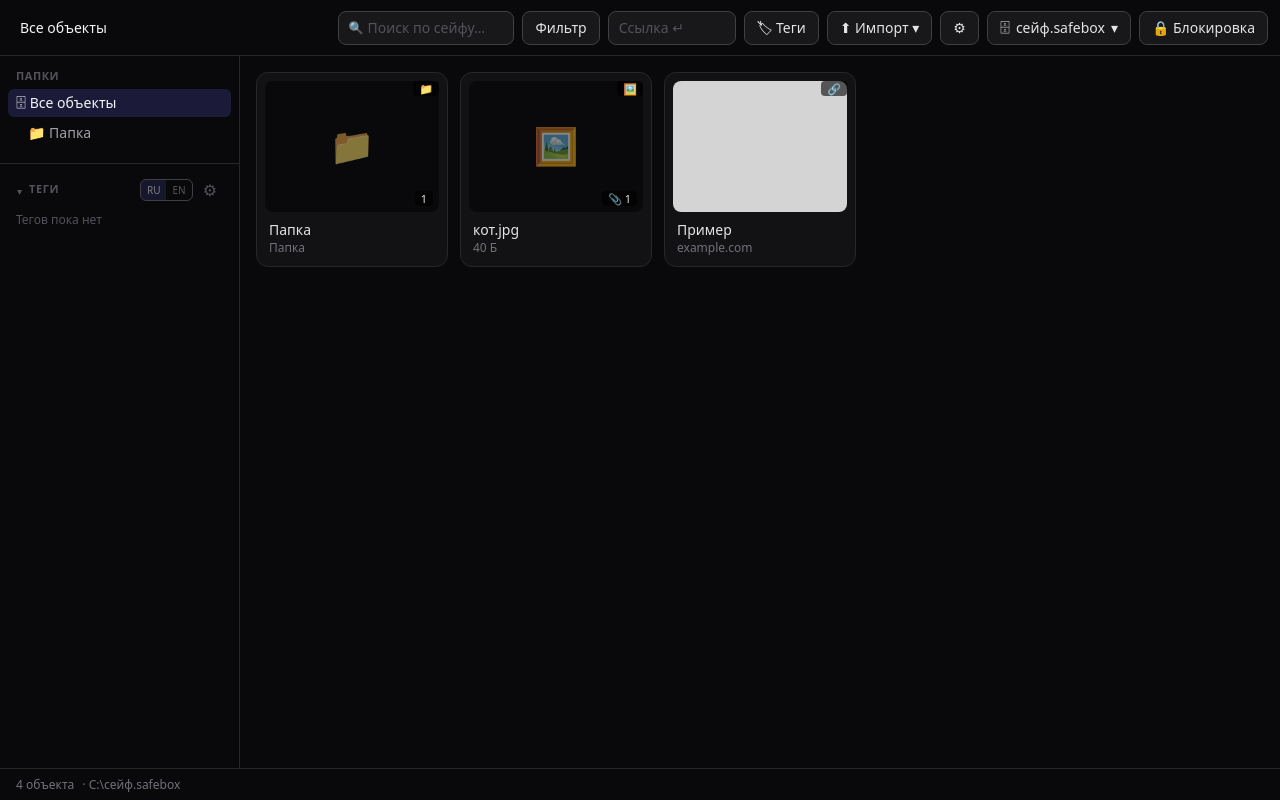
Test case: предпросмотр ссылок (UF-21) › «Обновить предпросмотр»: карточка перечитана, адрес миниатюры получает новую версию
Expected: the text "кот.jpg" is shown, left=473, top=220, right=519, bottom=240
Right-click the element showing "🔗 Пример example.com" at (760, 169), box left=664, top=72, right=856, bottom=266
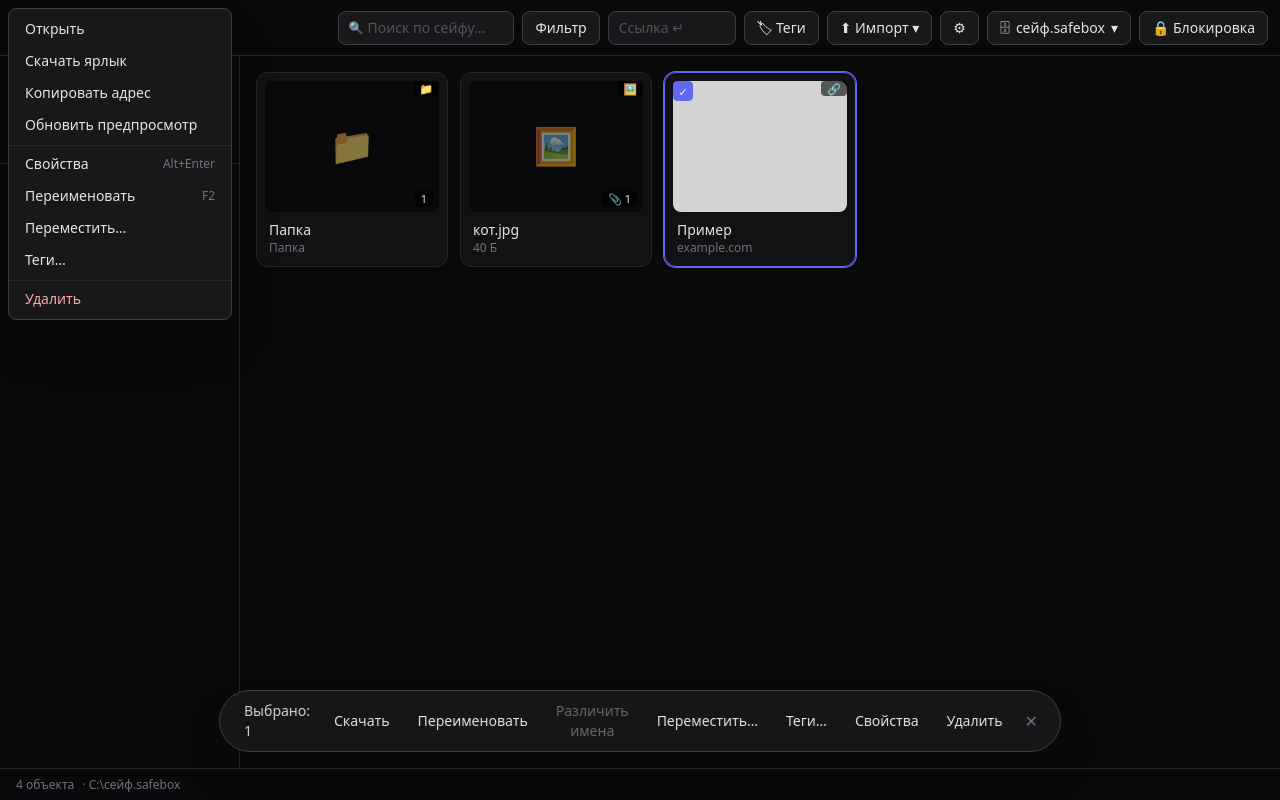
Click the menu item "Обновить предпросмотр". click: (120, 125)
box: left=9, top=109, right=231, bottom=141
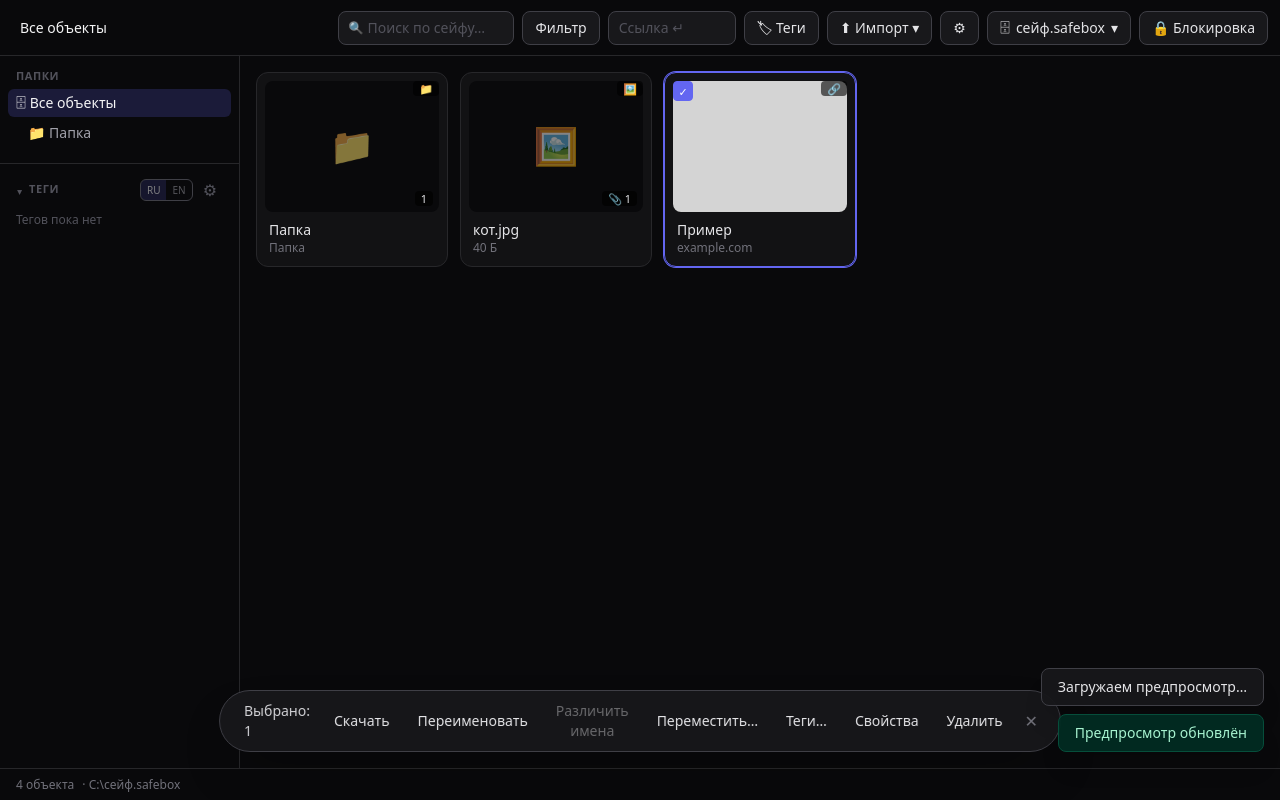
Expected: the text "Предпросмотр обновлён" is shown, left=1058, top=714, right=1264, bottom=752
